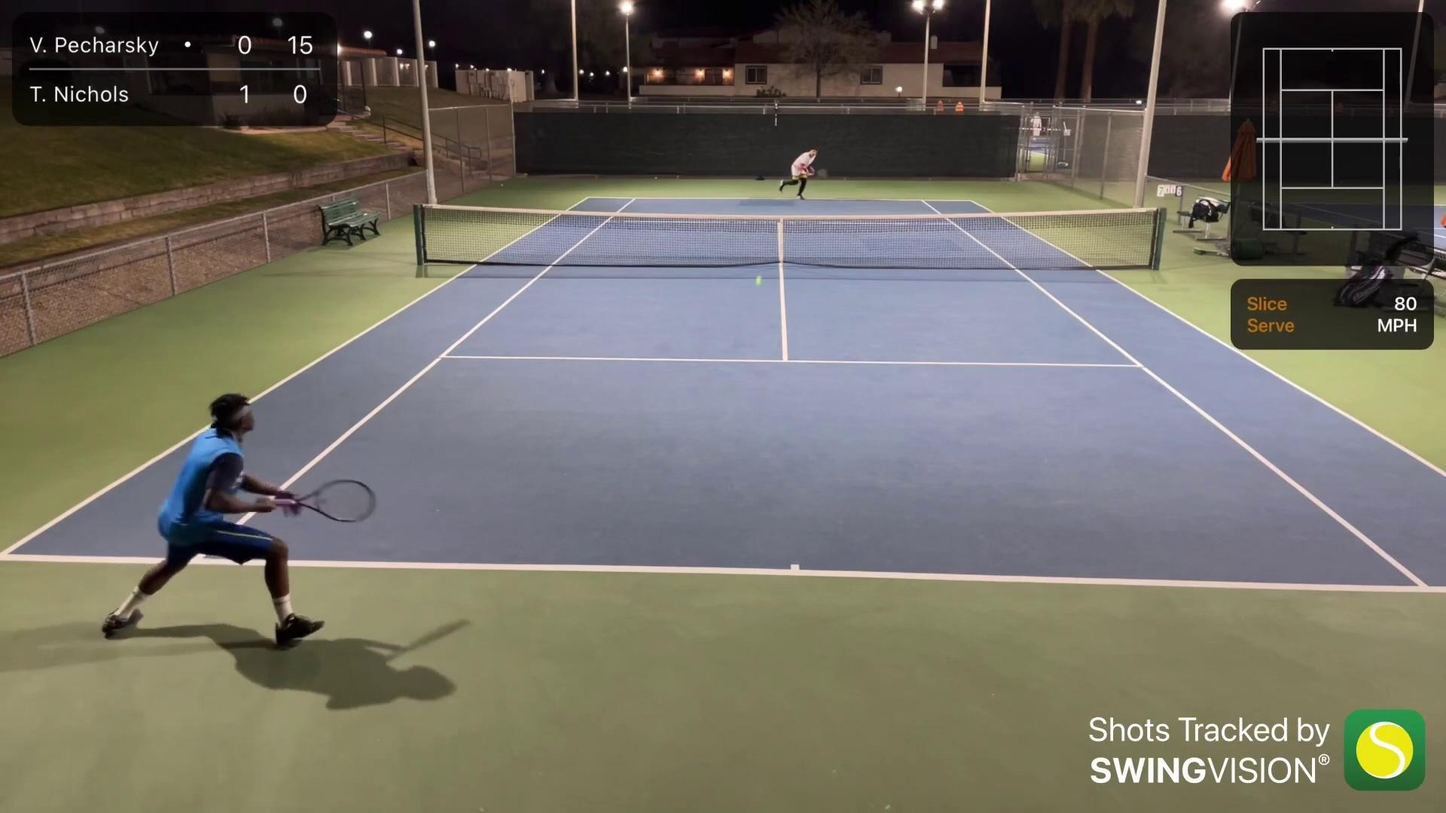ball: (756, 278, 761, 285)
